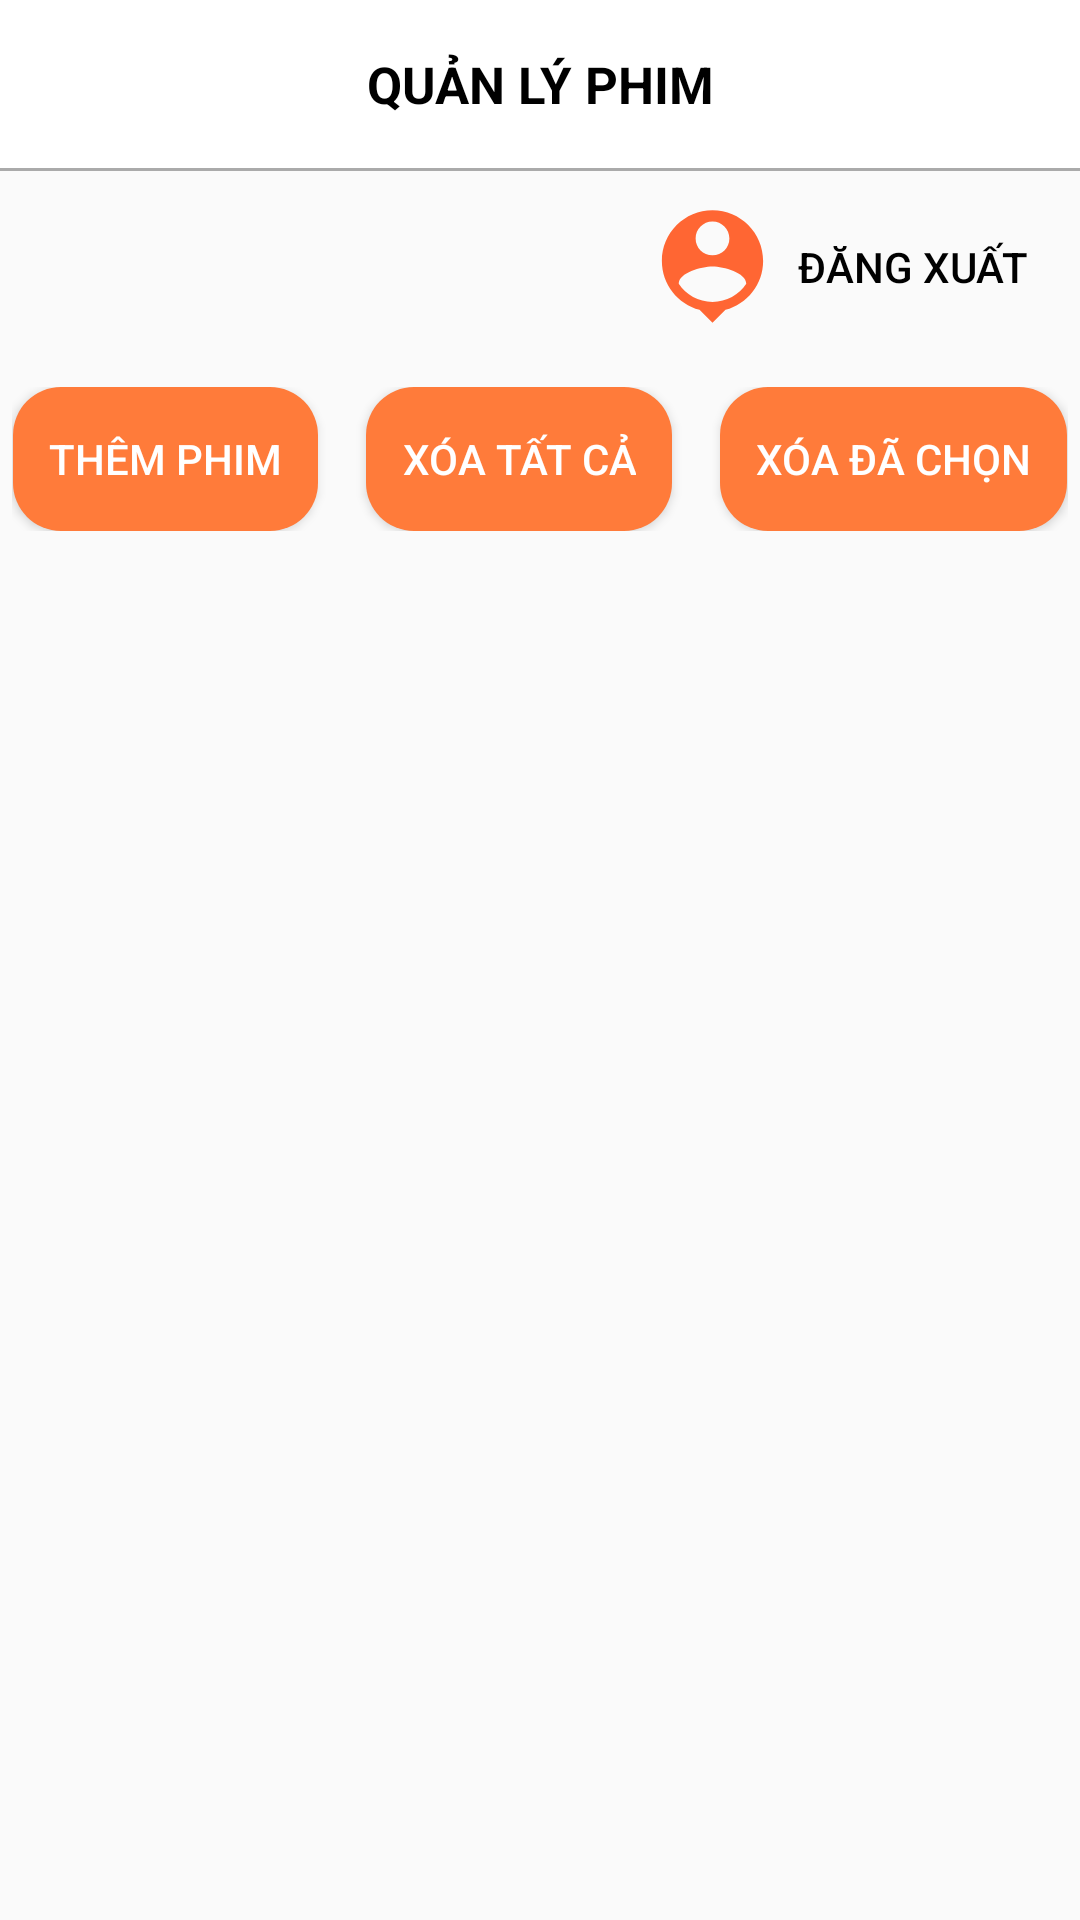

Screen size 1080px×1920px. Icon name, then its center in pixels as [x,y]:
person pin: [712,266]
